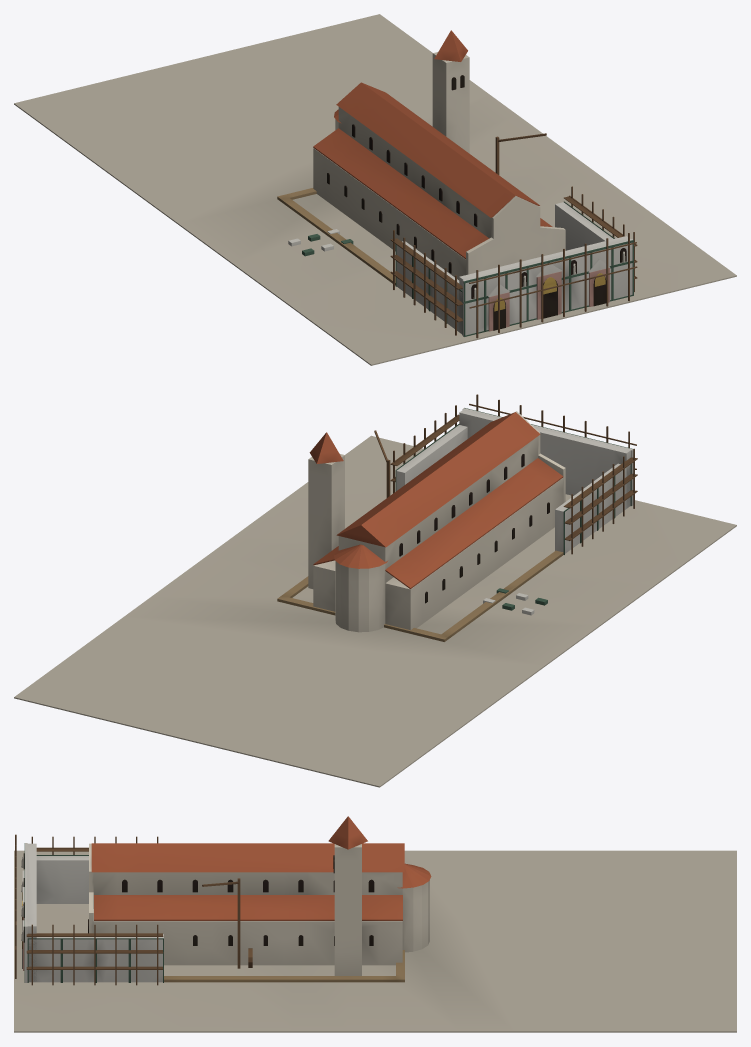
File: santa-reparata.glb
3 views of the same model, one above another, from view 1: azimuth 30°, elevation 25°; view 2: azimuth 150°, elevation 25°; view 3: azimuth 270°, elevation 25° (orthographic).
Parts seen in each view (by area): view 1: p0_old church, p1_new walls, p2_scaffolding; view 2: p0_old church, p1_new walls, p2_scaffolding; view 3: p0_old church, p1_new walls, p2_scaffolding.
Boxes of the visible parts, box(x1,y1,x2,y2) form: p0_old church: box(14, 14, 736, 365); p1_new walls: box(277, 188, 633, 336); p2_scaffolding: box(288, 133, 637, 338); p0_old church: box(14, 411, 736, 787); p1_new walls: box(277, 408, 633, 641); p2_scaffolding: box(374, 394, 637, 615); p0_old church: box(14, 816, 736, 1032); p1_new walls: box(21, 843, 404, 982); p2_scaffolding: box(15, 834, 252, 985).
Bounding box in the file's own units: 94 × 38.06 × 159.
